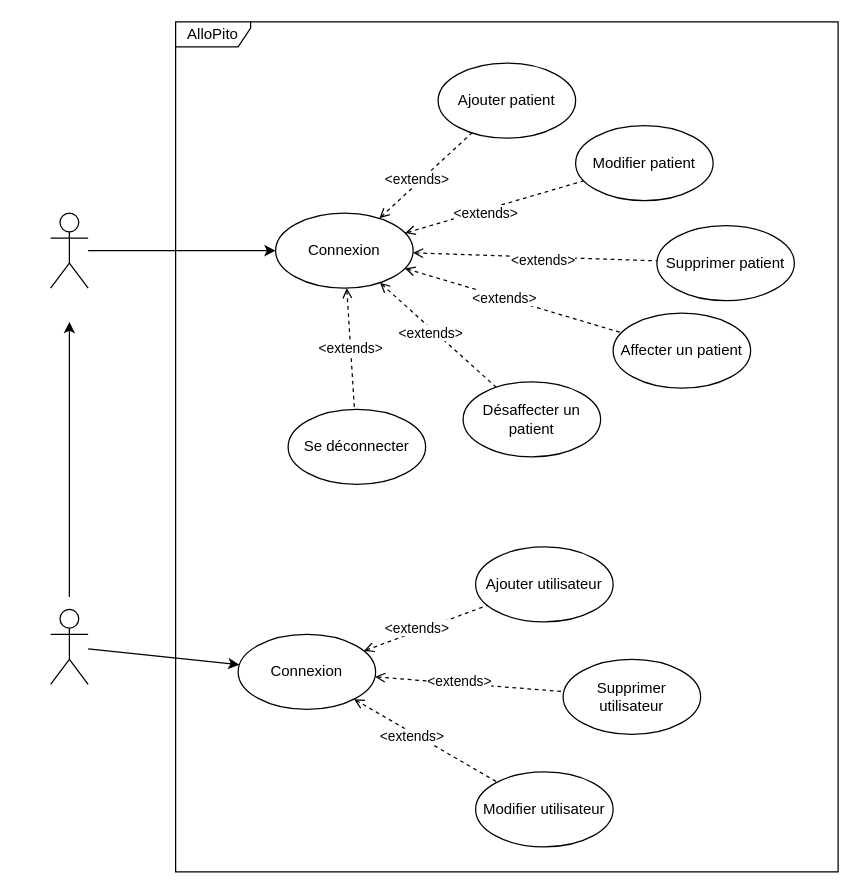
The diagram is 860 pixels wide and 894 high, and some of its shapes have lost their labels. Here are the shapes that lost their labels. From the top down, the centre of each, then its label:
At (68,250): "Utilisateur".
At (68,646): "Administrateur".
